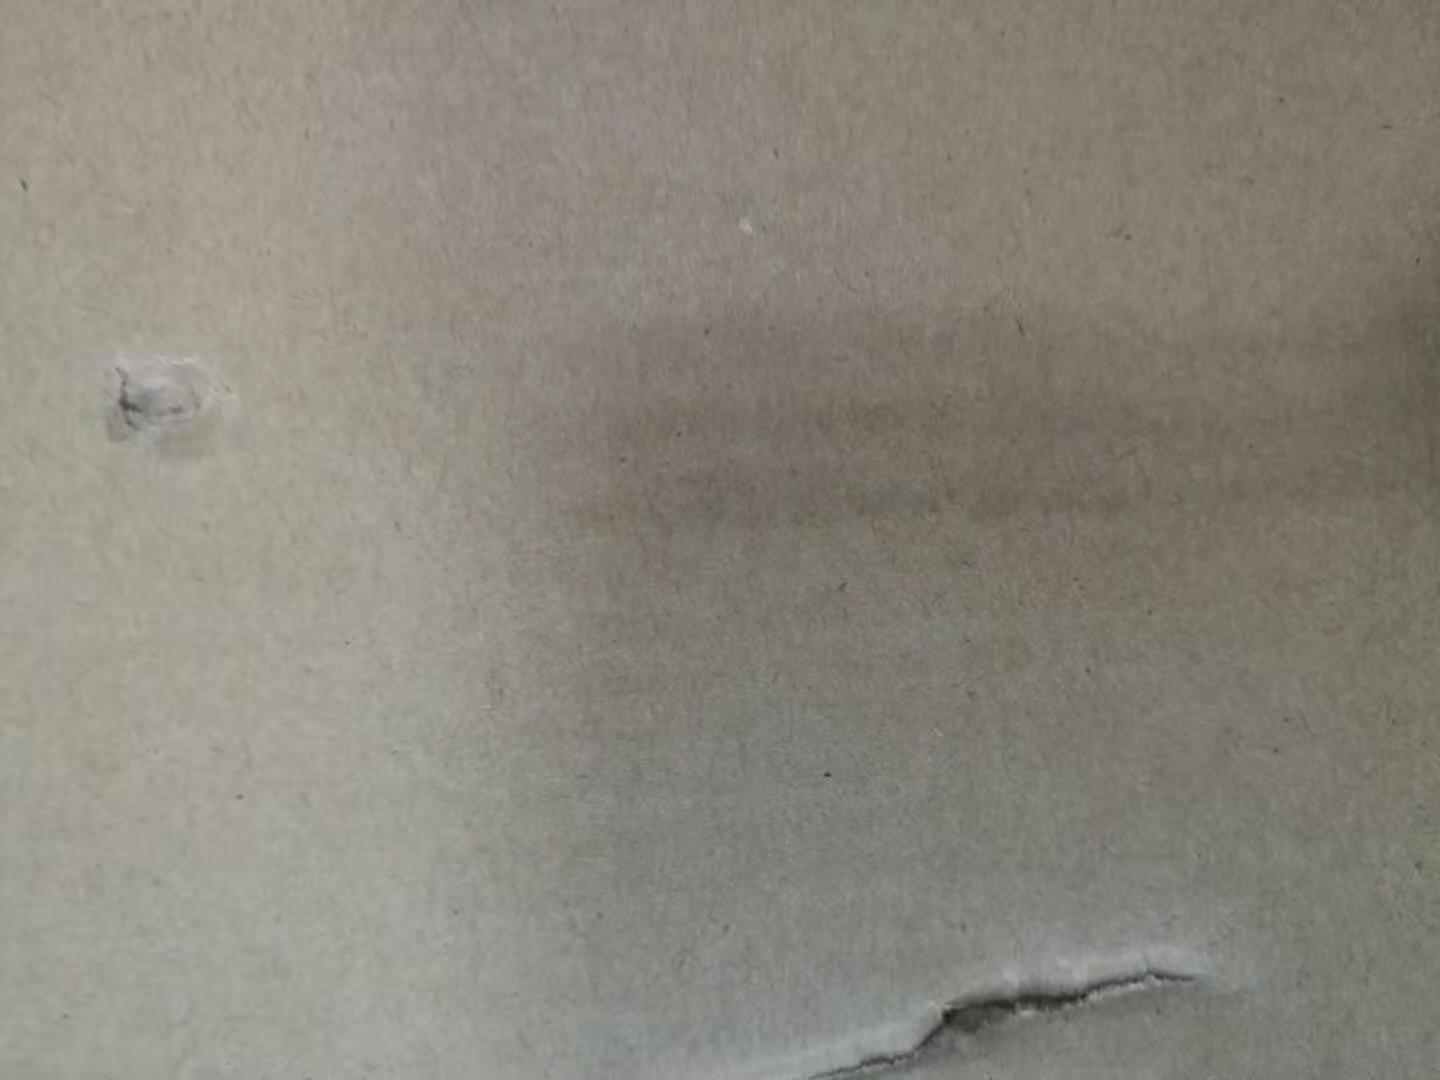defect: (718, 923, 1239, 1080), (77, 320, 259, 486)
